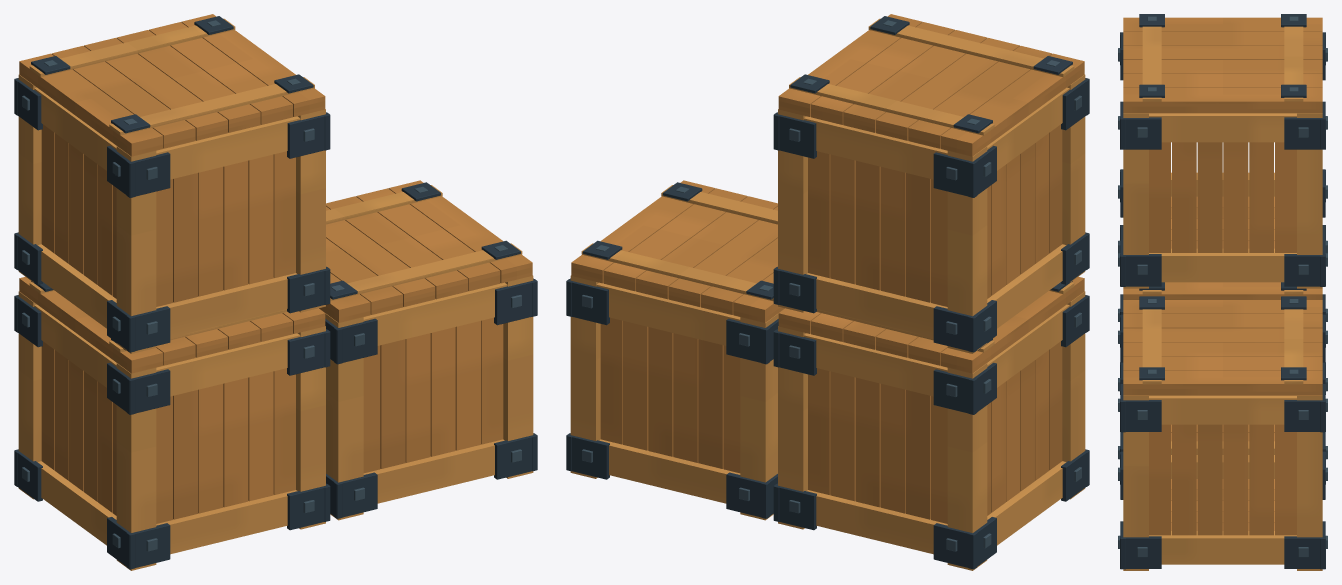
File: SM_VMF_Set_CrateStack.fbx
3 views of the same model, side by side, from view 1: azimuth 30°, elevation 25°; view 2: azimuth 150°, elevation 25°; view 3: azimuth 270°, elevation 25° (orthographic). The views are drawn at different scales.
Parts seen in each view (by area): view 1: Stack3_SM_VMF_Prop_StackableCrate_FloorAndVerticalPlanks, Stack1_SM_VMF_Prop_StackableCrate_FloorAndVerticalPlanks, StackLid3_SM_VMF_Prop_StackableCrate_Lid_Boards, Stack2_SM_VMF_Prop_StackableCrate_FloorAndVerticalPlanks, StackLid2_SM_VMF_Prop_StackableCrate_Lid_Boards, Stack1_SM_VMF_Prop_StackableCrate_UpperLowerRails, Stack3_SM_VMF_Prop_StackableCrate_UpperLowerRails, Stack1_SM_VMF_Prop_StackableCrate_CornerPosts, Stack3_SM_VMF_Prop_StackableCrate_CornerPosts, Stack3_SM_VMF_Prop_StackableCrate_CornerBrackets, Stack1_SM_VMF_Prop_StackableCrate_CornerBrackets, Stack2_SM_VMF_Prop_StackableCrate_CornerPosts (+10 smaller); view 2: Stack3_SM_VMF_Prop_StackableCrate_FloorAndVerticalPlanks, Stack1_SM_VMF_Prop_StackableCrate_FloorAndVerticalPlanks, StackLid3_SM_VMF_Prop_StackableCrate_Lid_Boards, Stack2_SM_VMF_Prop_StackableCrate_FloorAndVerticalPlanks, StackLid2_SM_VMF_Prop_StackableCrate_Lid_Boards, Stack1_SM_VMF_Prop_StackableCrate_UpperLowerRails, Stack3_SM_VMF_Prop_StackableCrate_UpperLowerRails, Stack1_SM_VMF_Prop_StackableCrate_CornerPosts, Stack3_SM_VMF_Prop_StackableCrate_CornerPosts, Stack3_SM_VMF_Prop_StackableCrate_CornerBrackets, Stack1_SM_VMF_Prop_StackableCrate_CornerBrackets, Stack2_SM_VMF_Prop_StackableCrate_CornerPosts (+10 smaller); view 3: Stack2_SM_VMF_Prop_StackableCrate_FloorAndVerticalPlanks, Stack3_SM_VMF_Prop_StackableCrate_FloorAndVerticalPlanks, StackLid3_SM_VMF_Prop_StackableCrate_Lid_Boards, StackLid2_SM_VMF_Prop_StackableCrate_Lid_Boards, Stack2_SM_VMF_Prop_StackableCrate_UpperLowerRails, Stack3_SM_VMF_Prop_StackableCrate_UpperLowerRails, Stack3_SM_VMF_Prop_StackableCrate_CornerBrackets, Stack2_SM_VMF_Prop_StackableCrate_CornerBrackets, Stack2_SM_VMF_Prop_StackableCrate_CornerPosts, Stack3_SM_VMF_Prop_StackableCrate_CornerPosts, StackLid1_SM_VMF_Prop_StackableCrate_Lid_Boards, StackLid2_SM_VMF_Prop_StackableCrate_Lid_Battens (+6 smaller).
Part boxes in pixels (x1,y1,x2,y2): Stack3_SM_VMF_Prop_StackableCrate_FloorAndVerticalPlanks: (41,124,295,306); Stack1_SM_VMF_Prop_StackableCrate_FloorAndVerticalPlanks: (41,341,295,523); StackLid3_SM_VMF_Prop_StackableCrate_Lid_Boards: (19,14,325,156); Stack2_SM_VMF_Prop_StackableCrate_FloorAndVerticalPlanks: (363,317,503,473); StackLid2_SM_VMF_Prop_StackableCrate_Lid_Boards: (319,180,532,322); Stack1_SM_VMF_Prop_StackableCrate_UpperLowerRails: (34,304,300,554); Stack3_SM_VMF_Prop_StackableCrate_UpperLowerRails: (34,87,300,337); Stack1_SM_VMF_Prop_StackableCrate_CornerPosts: (18,291,325,570); Stack3_SM_VMF_Prop_StackableCrate_CornerPosts: (18,74,325,353); Stack3_SM_VMF_Prop_StackableCrate_CornerBrackets: (14,78,330,352); Stack1_SM_VMF_Prop_StackableCrate_CornerBrackets: (14,295,330,569); Stack2_SM_VMF_Prop_StackableCrate_CornerPosts: (325,275,533,520); Stack3_SM_VMF_Prop_StackableCrate_FloorAndVerticalPlanks: (808,124,1062,306); Stack1_SM_VMF_Prop_StackableCrate_FloorAndVerticalPlanks: (808,341,1062,523); StackLid3_SM_VMF_Prop_StackableCrate_Lid_Boards: (778,14,1084,156); Stack2_SM_VMF_Prop_StackableCrate_FloorAndVerticalPlanks: (600,317,740,473); StackLid2_SM_VMF_Prop_StackableCrate_Lid_Boards: (571,180,784,322); Stack1_SM_VMF_Prop_StackableCrate_UpperLowerRails: (803,304,1069,554); Stack3_SM_VMF_Prop_StackableCrate_UpperLowerRails: (803,87,1069,337); Stack1_SM_VMF_Prop_StackableCrate_CornerPosts: (778,291,1085,570); Stack3_SM_VMF_Prop_StackableCrate_CornerPosts: (778,74,1085,353); Stack3_SM_VMF_Prop_StackableCrate_CornerBrackets: (773,78,1089,352); Stack1_SM_VMF_Prop_StackableCrate_CornerBrackets: (773,295,1089,569); Stack2_SM_VMF_Prop_StackableCrate_CornerPosts: (570,275,778,520); Stack2_SM_VMF_Prop_StackableCrate_FloorAndVerticalPlanks: (1149,424,1296,535); Stack3_SM_VMF_Prop_StackableCrate_FloorAndVerticalPlanks: (1149,142,1296,252); StackLid3_SM_VMF_Prop_StackableCrate_Lid_Boards: (1123,17,1322,113); StackLid2_SM_VMF_Prop_StackableCrate_Lid_Boards: (1123,300,1322,395); Stack2_SM_VMF_Prop_StackableCrate_UpperLowerRails: (1149,395,1296,564); Stack3_SM_VMF_Prop_StackableCrate_UpperLowerRails: (1149,113,1296,282); Stack3_SM_VMF_Prop_StackableCrate_CornerBrackets: (1120,32,1325,286); Stack2_SM_VMF_Prop_StackableCrate_CornerBrackets: (1120,314,1325,569); Stack2_SM_VMF_Prop_StackableCrate_CornerPosts: (1123,395,1322,570); Stack3_SM_VMF_Prop_StackableCrate_CornerPosts: (1123,113,1322,288); StackLid1_SM_VMF_Prop_StackableCrate_Lid_Boards: (1123,282,1322,299); StackLid2_SM_VMF_Prop_StackableCrate_Lid_Battens: (1142,309,1303,384).
Size of the model in its own units: 131 by 132 by 65.2.
1 material, 1 textured.
